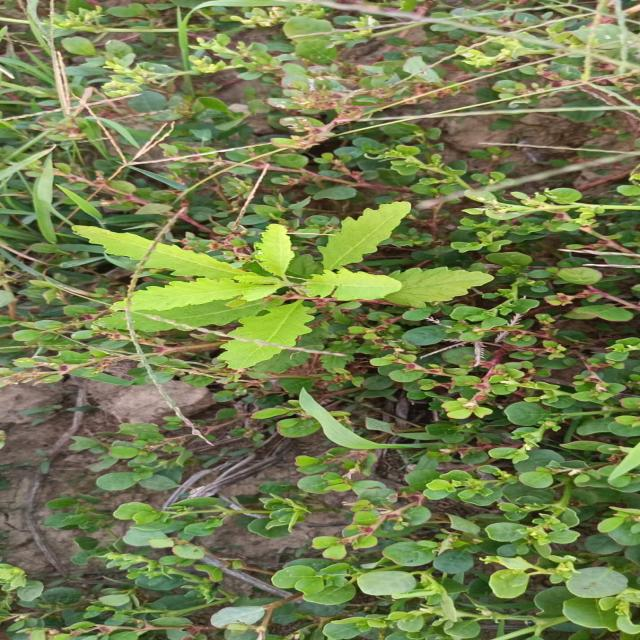plant: (71, 202, 492, 369)
